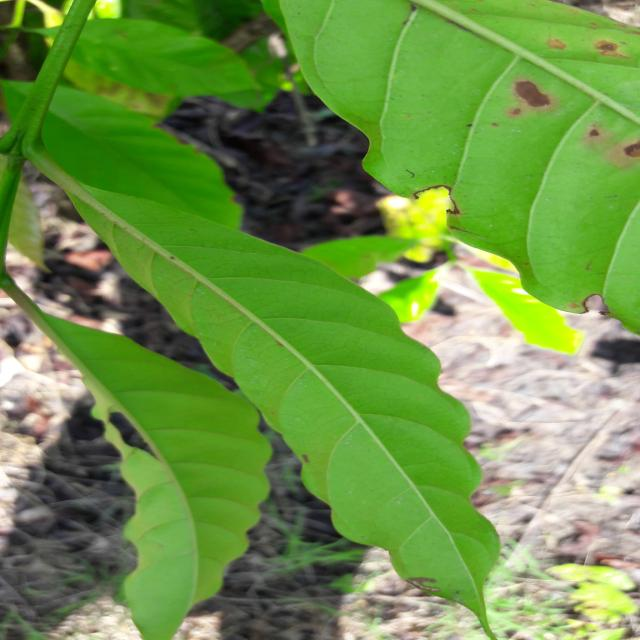Sanas: (39, 87, 500, 626)
